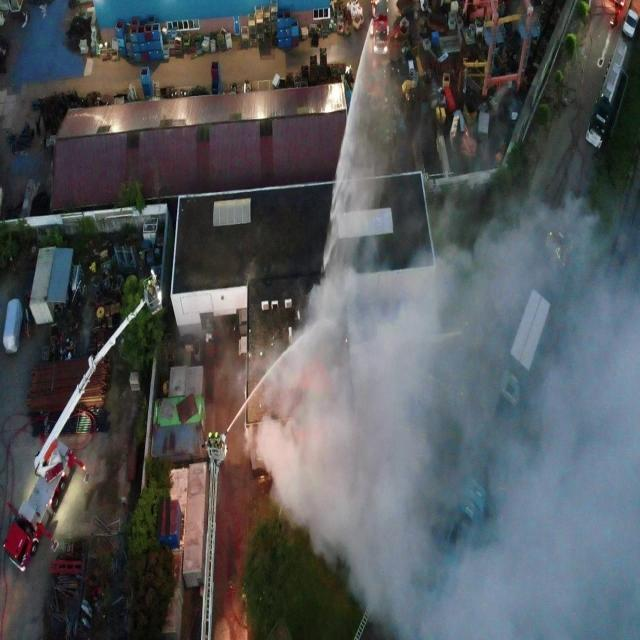Smoke: (236, 187, 640, 640)
